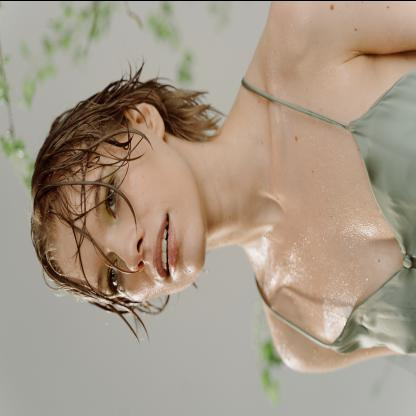Eye: (101, 164, 125, 218), (102, 251, 124, 298)
Mouth: (151, 210, 181, 284)
Nose: (113, 216, 147, 268)
